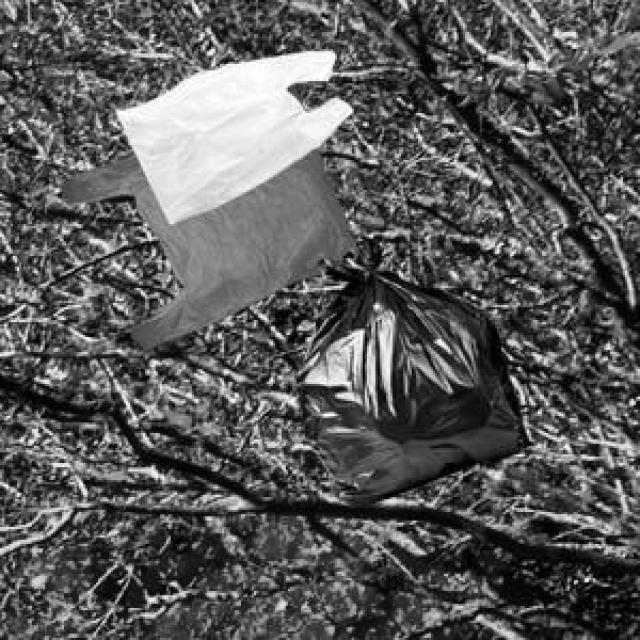miscellaneous trash: (292, 233, 527, 504)
